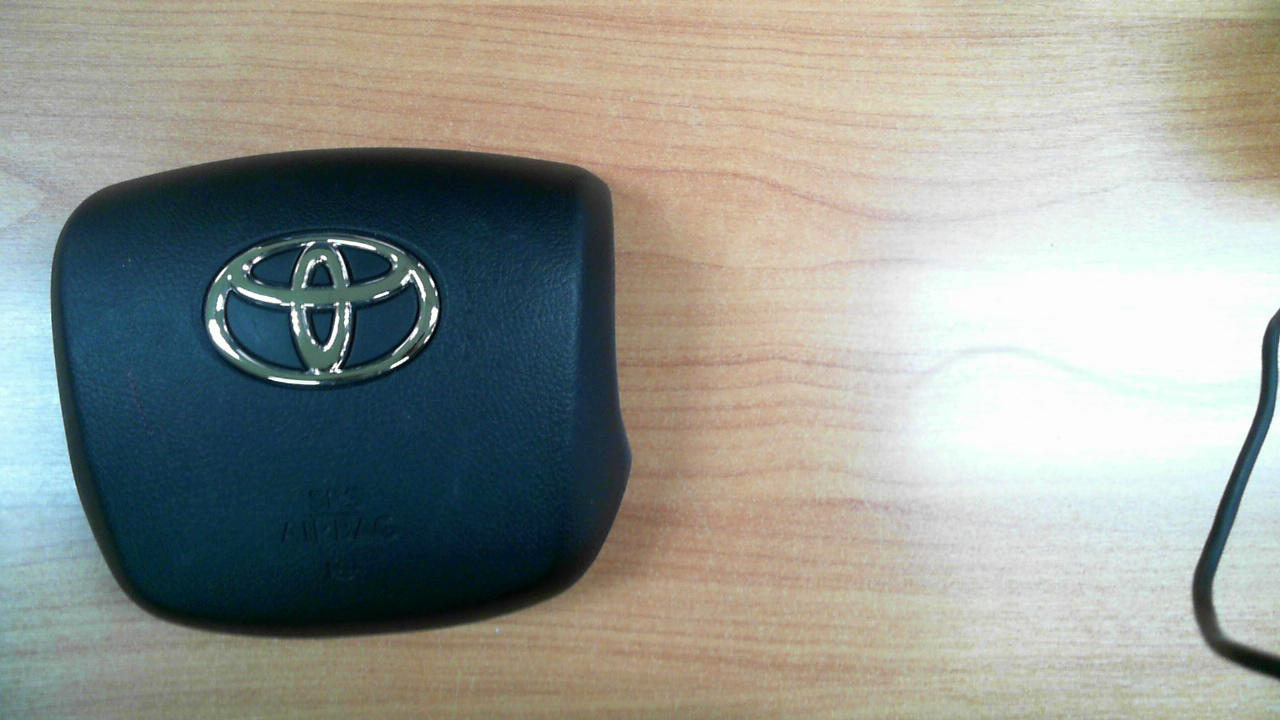Airbag: (47, 147, 634, 638)
Toyota: (204, 232, 440, 386)
